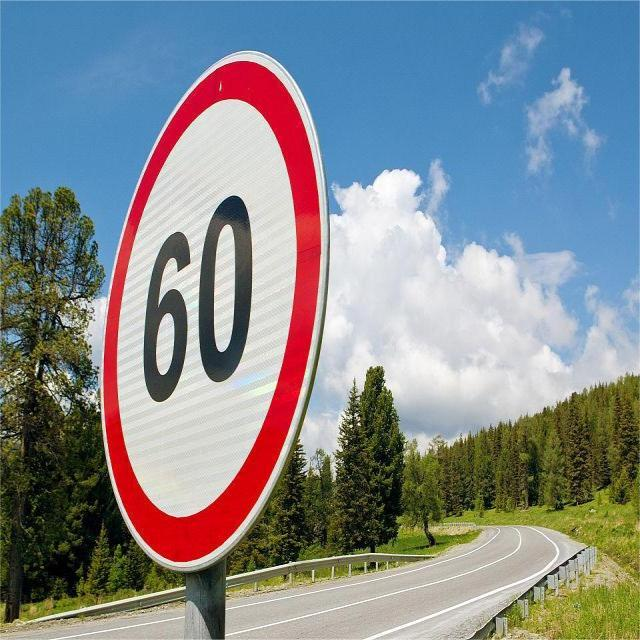speed limit 60: (100, 53, 329, 572)
